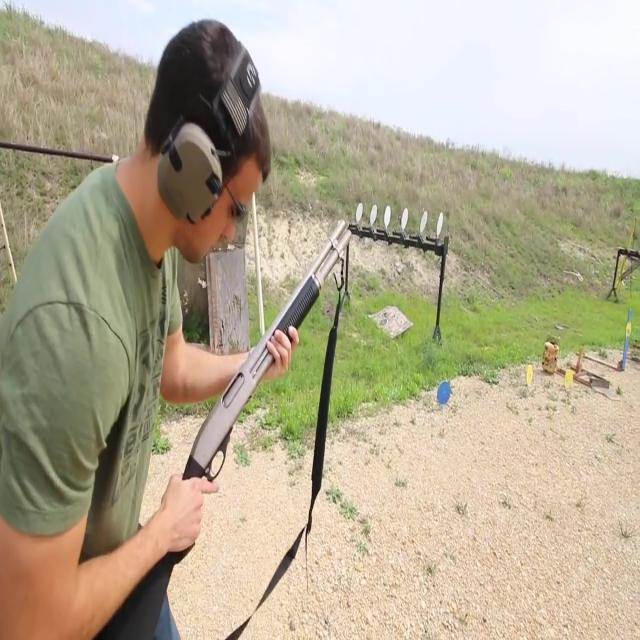Weapon: (117, 203, 370, 639)
